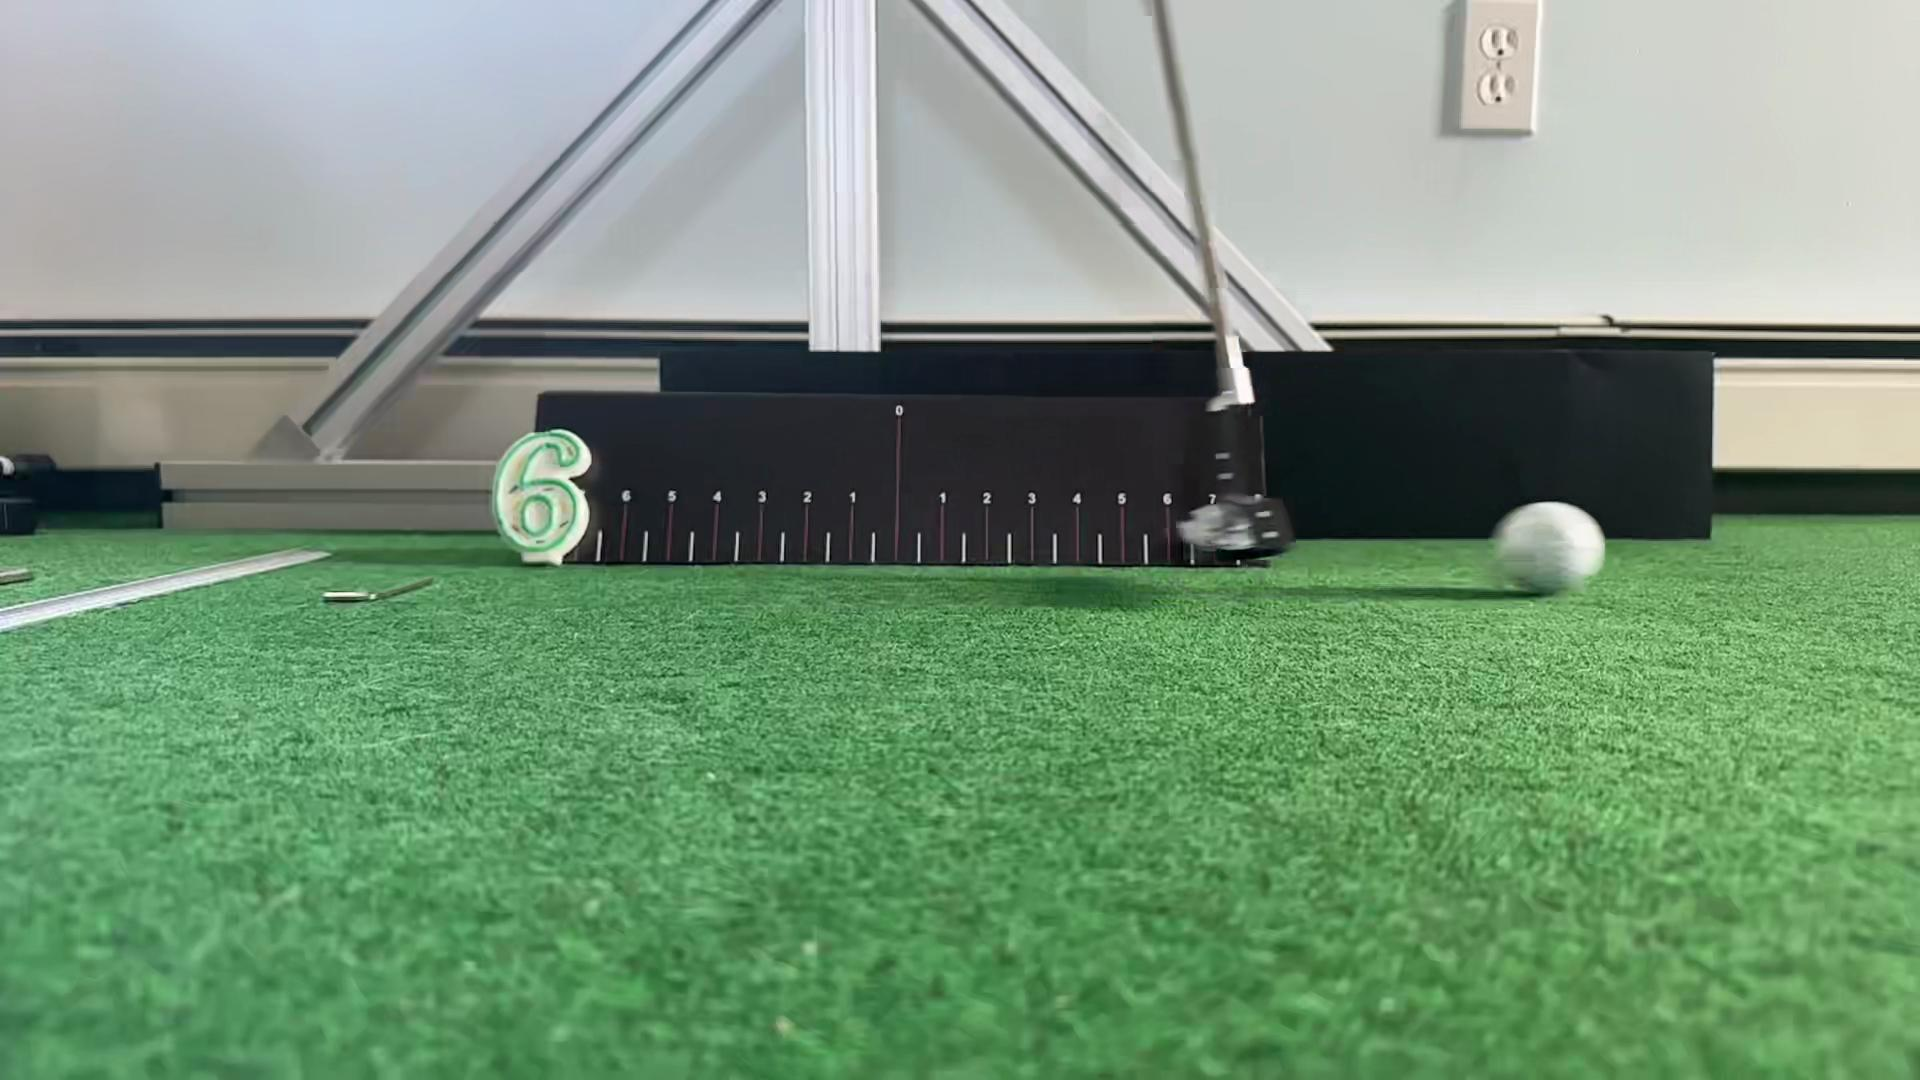golfball: (1497, 504, 1604, 595)
